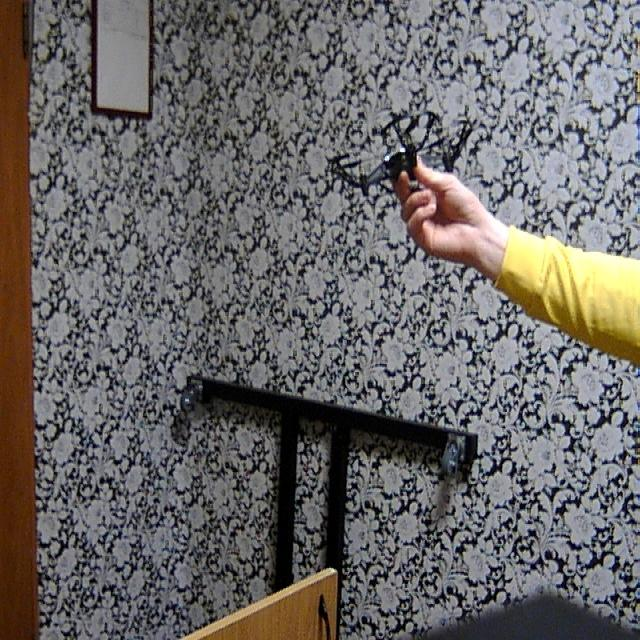drone: (326, 97, 484, 211)
